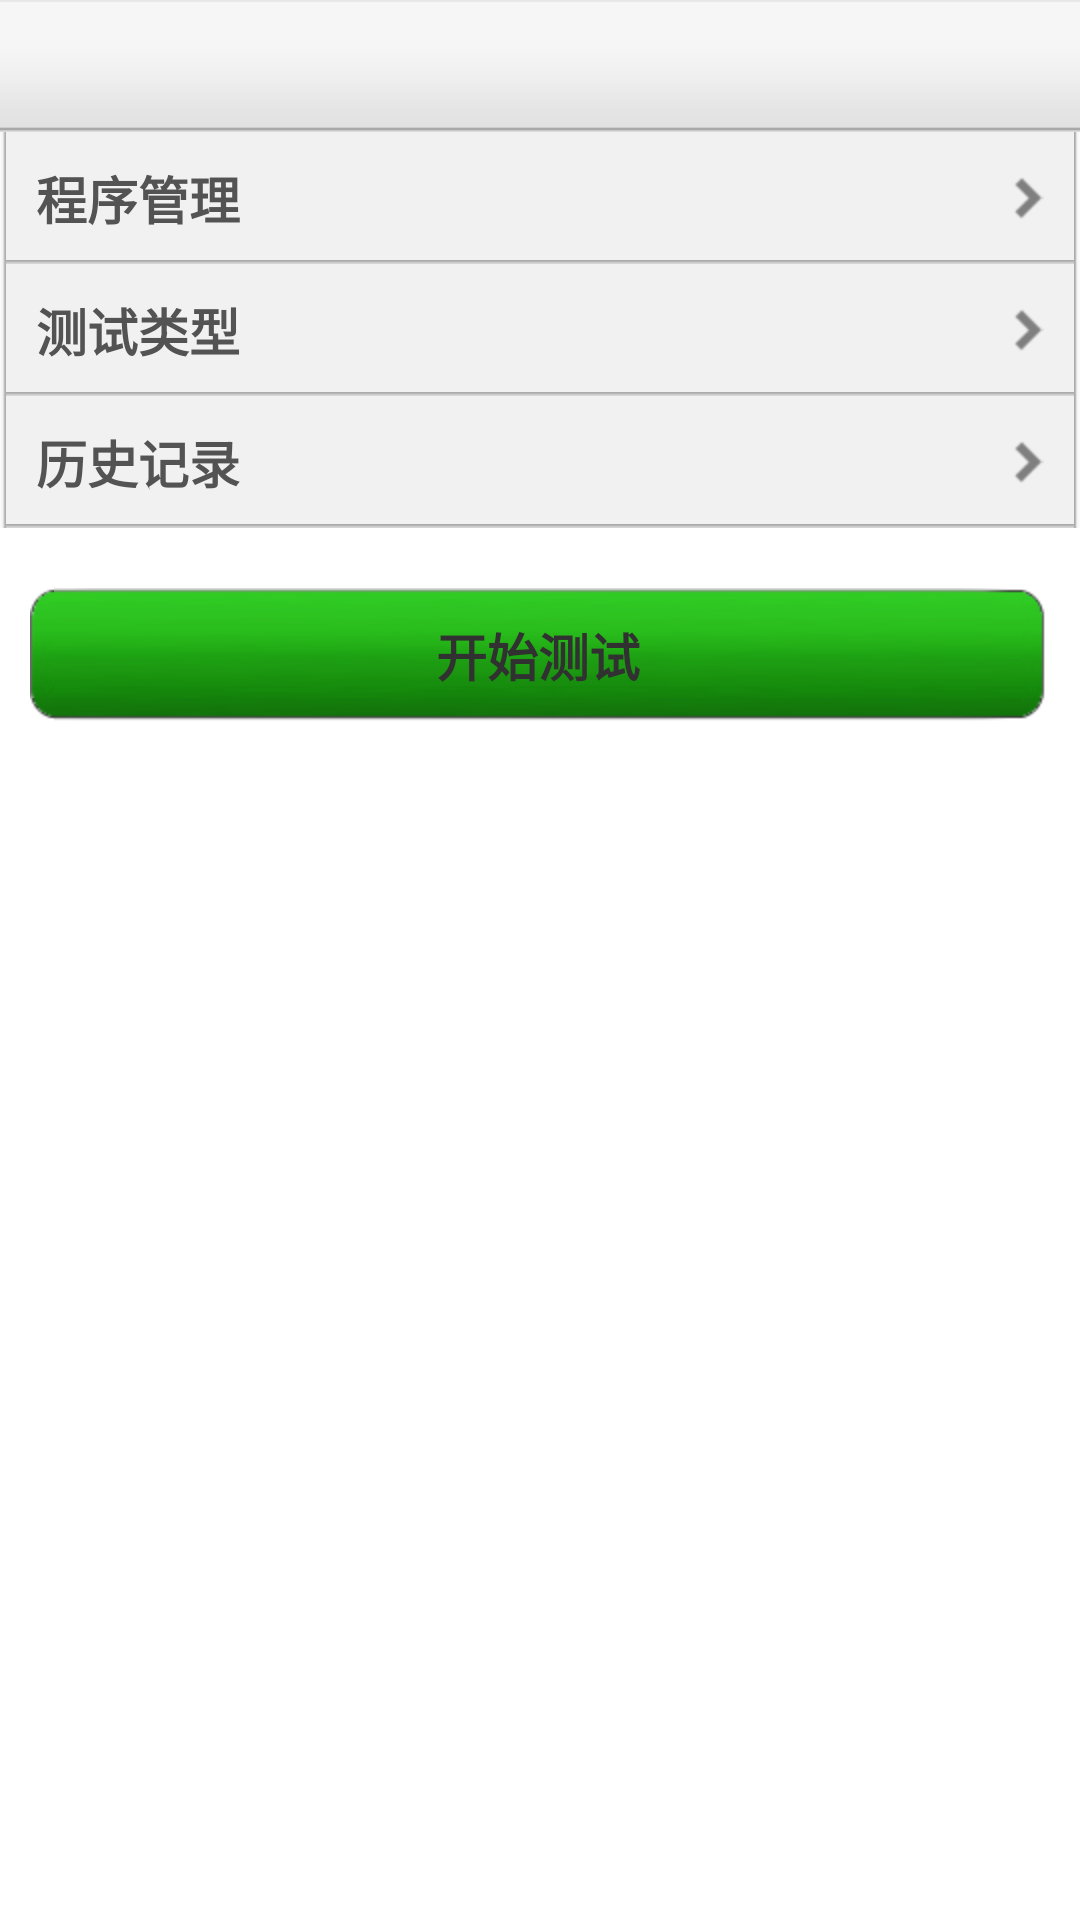

Named icons in this screenshot (1080 × 1920) and their bounding boxes, bbox(x1, y1, x2, y2):
nextpage: bbox(1015, 178, 1042, 218), bbox(1015, 310, 1042, 350), bbox(1015, 442, 1042, 482)
